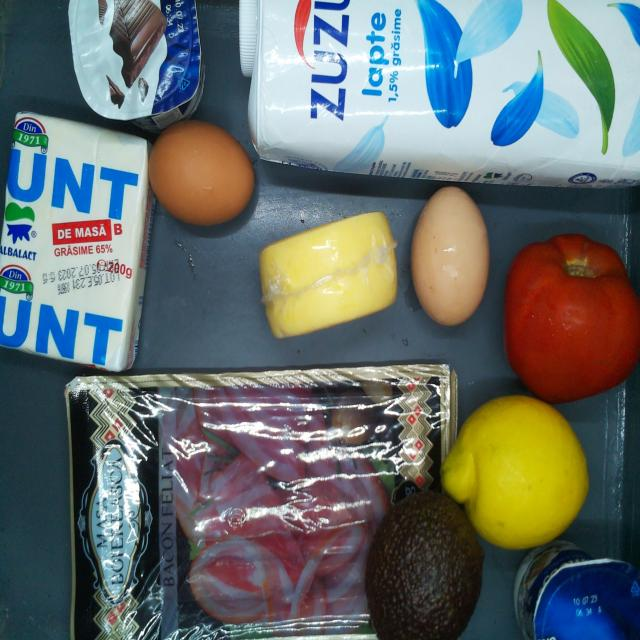avocado: (368, 493, 480, 640)
bacon: (69, 367, 454, 640)
butter: (3, 112, 142, 370)
cheese: (260, 213, 398, 336)
eggs: (412, 182, 488, 324), (150, 122, 252, 227)
lemon: (445, 399, 590, 545)
milk: (243, 0, 640, 182)
tomatoes: (500, 230, 640, 398)
yogurt: (66, 0, 204, 119), (515, 545, 640, 640)
